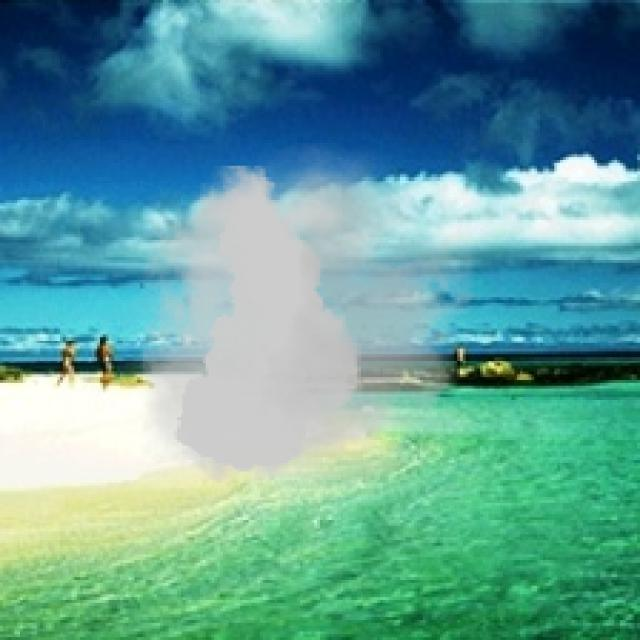smoke: (112, 143, 497, 494)
